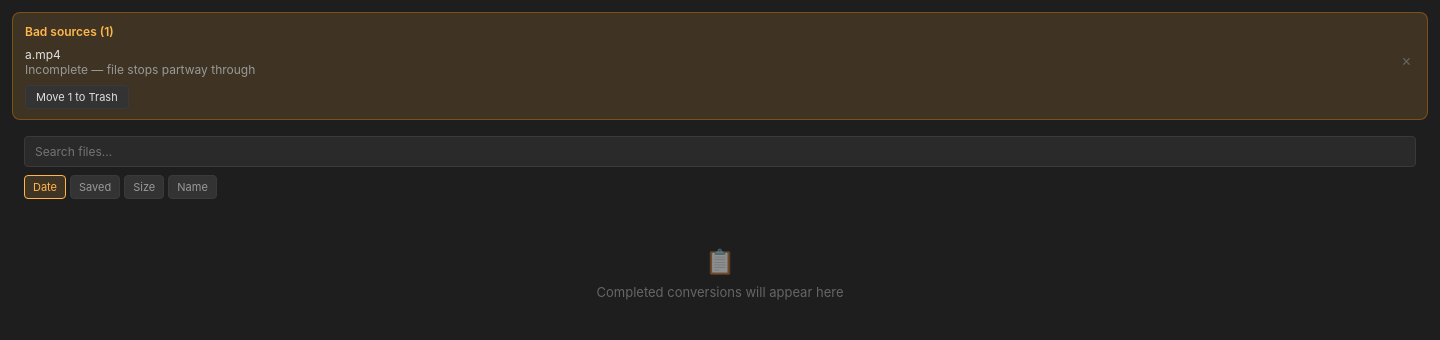
Scenario: HistoryPage › bad-source review list › does not tell the user to retry a purge that panicked
Expected: the text "Bad sources (1)" is shown, [25, 24, 114, 39]
Click the button "Move 1 to Trash": (77, 97) [25, 85, 129, 109]
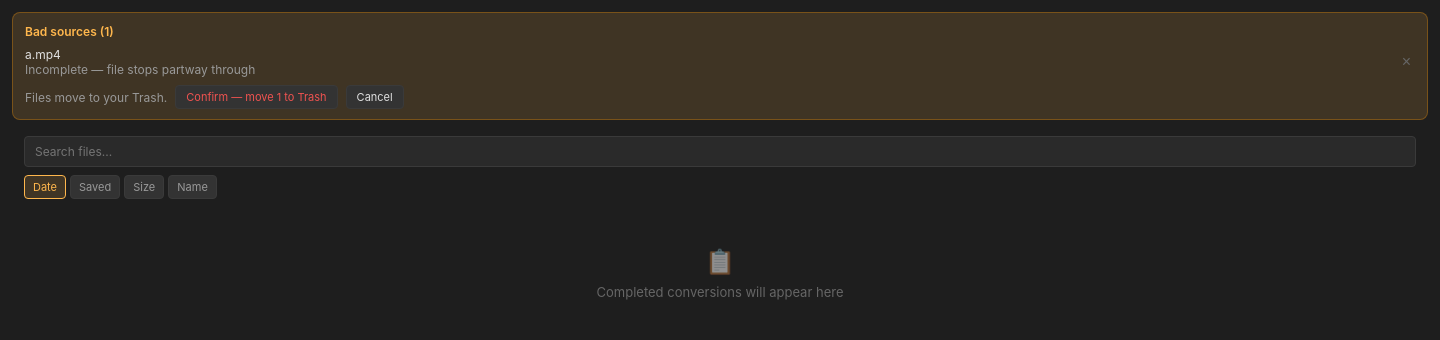
Click the button "Confirm — move 1 to Trash": (256, 97) [175, 85, 338, 109]
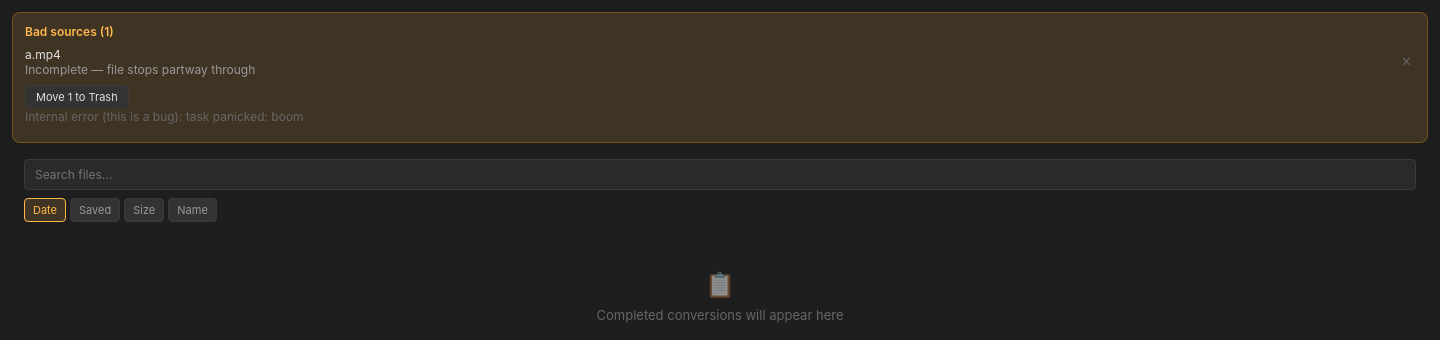
Expected: the text "Internal error (this is a bug): task panicked: boom" is shown, [25, 109, 304, 124]
